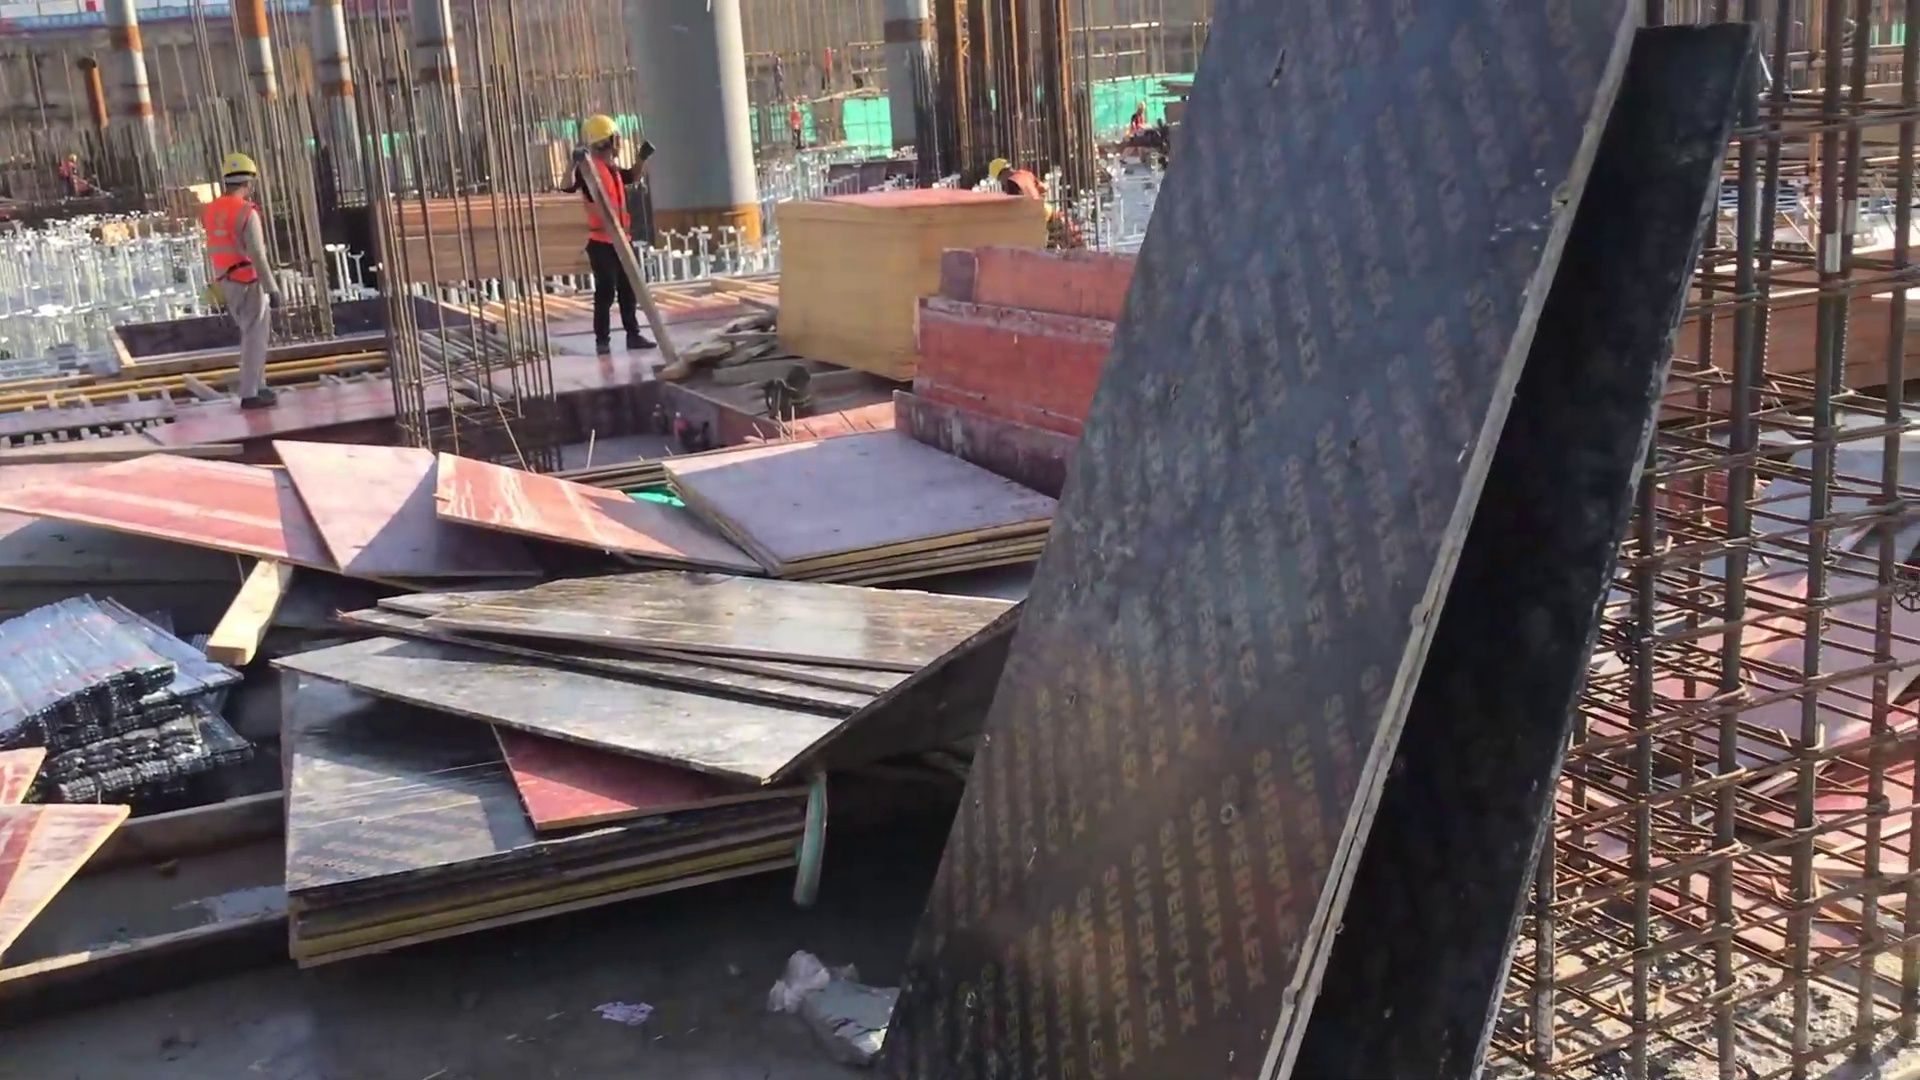board: (676, 444, 1023, 574), (775, 187, 937, 375)
helmet: (578, 110, 622, 143), (216, 151, 267, 179), (983, 155, 1013, 183), (1135, 99, 1146, 110)
person: (195, 149, 295, 420), (559, 109, 656, 354), (984, 149, 1060, 204), (1129, 100, 1154, 128)
slogan: (18, 6, 108, 32), (138, 3, 191, 20)
vest: (197, 188, 262, 286), (580, 151, 635, 249), (1008, 167, 1043, 201), (1133, 110, 1147, 127)
